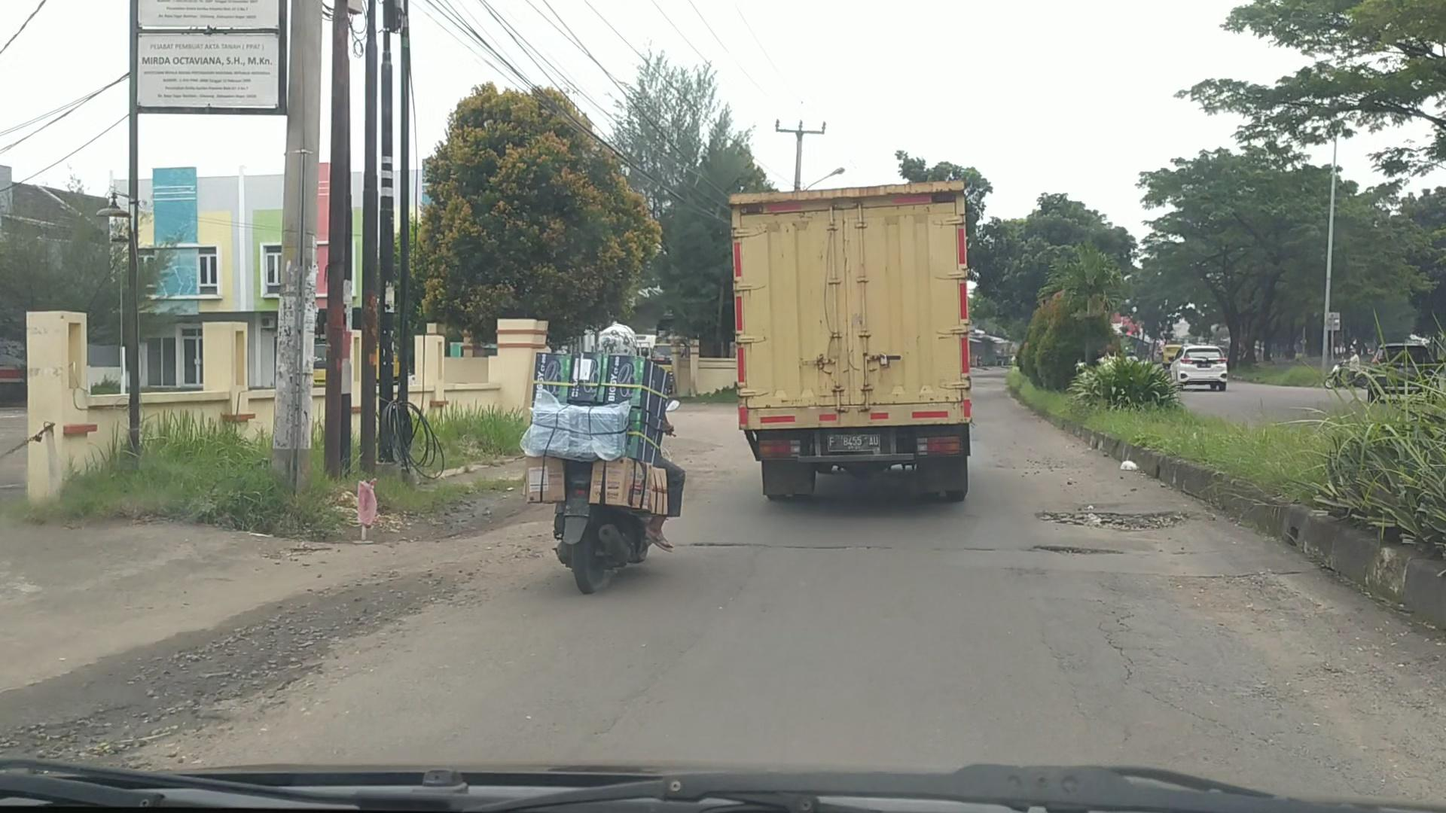pothole: (1036, 508, 1188, 532), (1037, 543, 1119, 556)
